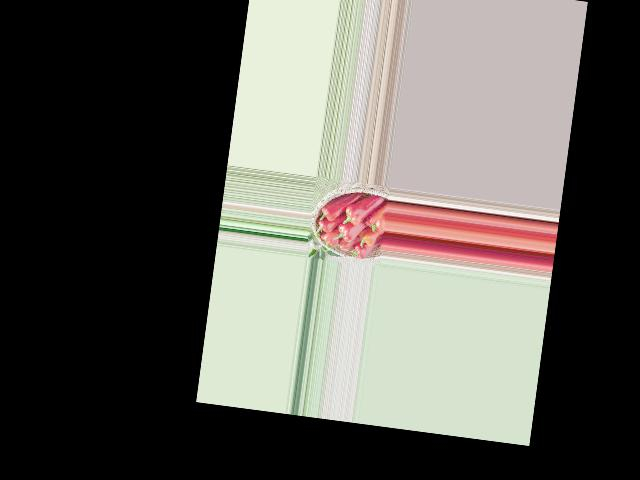bell_pepper: (313, 216, 336, 236)
